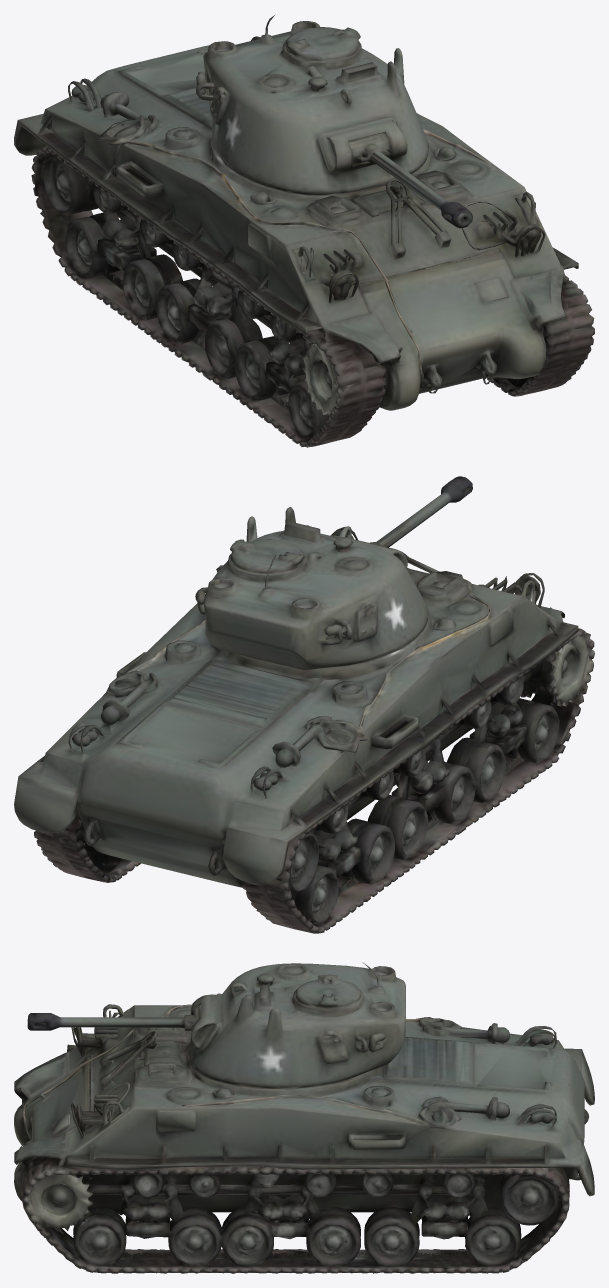
Rendered from veh_tank.glb.
3 views of the same model, one above another, from view 1: azimuth 30°, elevation 25°; view 2: azimuth 150°, elevation 25°; view 3: azimuth 270°, elevation 25° (orthographic). The views are drawn at different scales.
Visible parts, largest first — view 1: node_0; view 2: node_0; view 3: node_0.
Boxes of the visible parts, left/top/right/bottom form: node_0: left=14, top=14, right=594, bottom=447; node_0: left=14, top=476, right=594, bottom=933; node_0: left=14, top=962, right=594, bottom=1273.
Size of the model in its own units: 0.5264 by 0.5321 by 1.08.
Materials: 1 (1 with a texture image).
